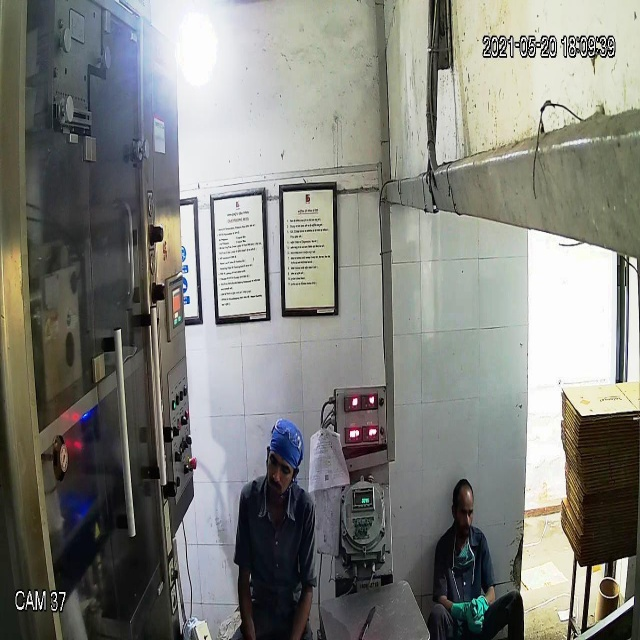Sin_gafas: (264, 452, 297, 486), (451, 497, 478, 524)
